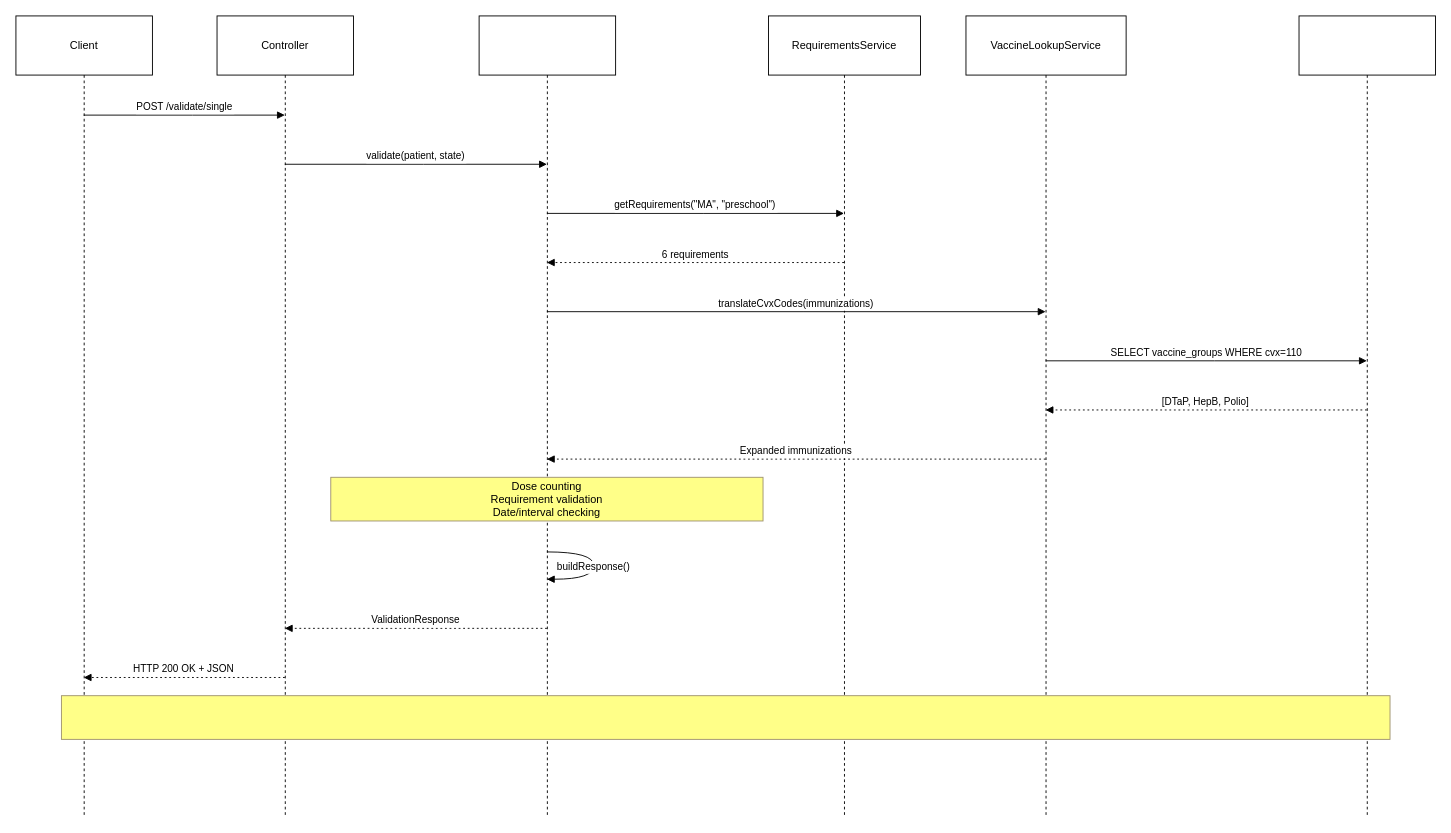
The diagram is 1451 pixels wide and 833 high, and some of its shapes have lost their labels. The shapes that lost their labels are listed below. From the top down, each one's box as (x1, y1, x2, y2) in pixels, then its label:
(478, 15, 616, 817): ValidationService
(1298, 15, 1436, 817): Database
(61, 695, 1390, 739): Total: ~100ms
